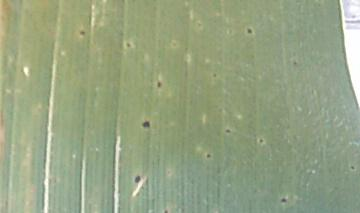tarspot: (139, 118, 154, 130), (123, 39, 135, 50), (289, 56, 301, 67), (132, 173, 143, 185), (204, 149, 214, 162), (278, 196, 291, 205), (155, 79, 165, 90), (348, 162, 357, 174), (76, 28, 89, 36), (244, 26, 255, 35), (256, 136, 267, 145), (223, 127, 234, 135), (210, 70, 219, 79), (170, 39, 178, 49), (195, 21, 206, 28), (160, 207, 173, 212)
